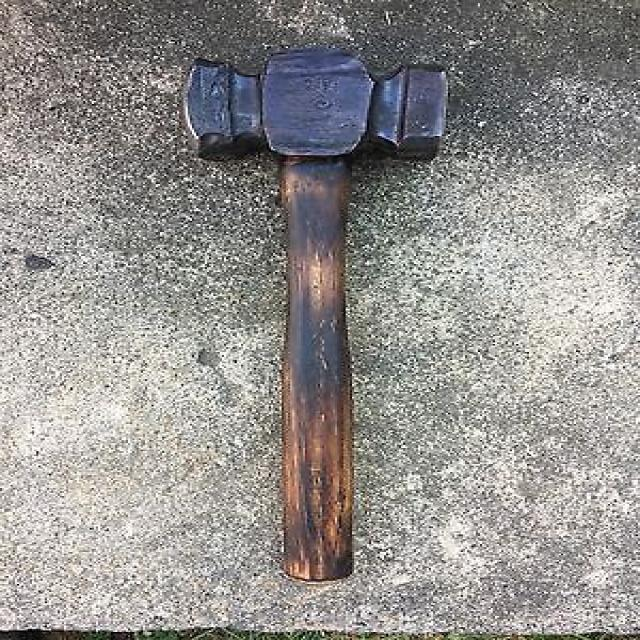hammer: (179, 41, 457, 586)
